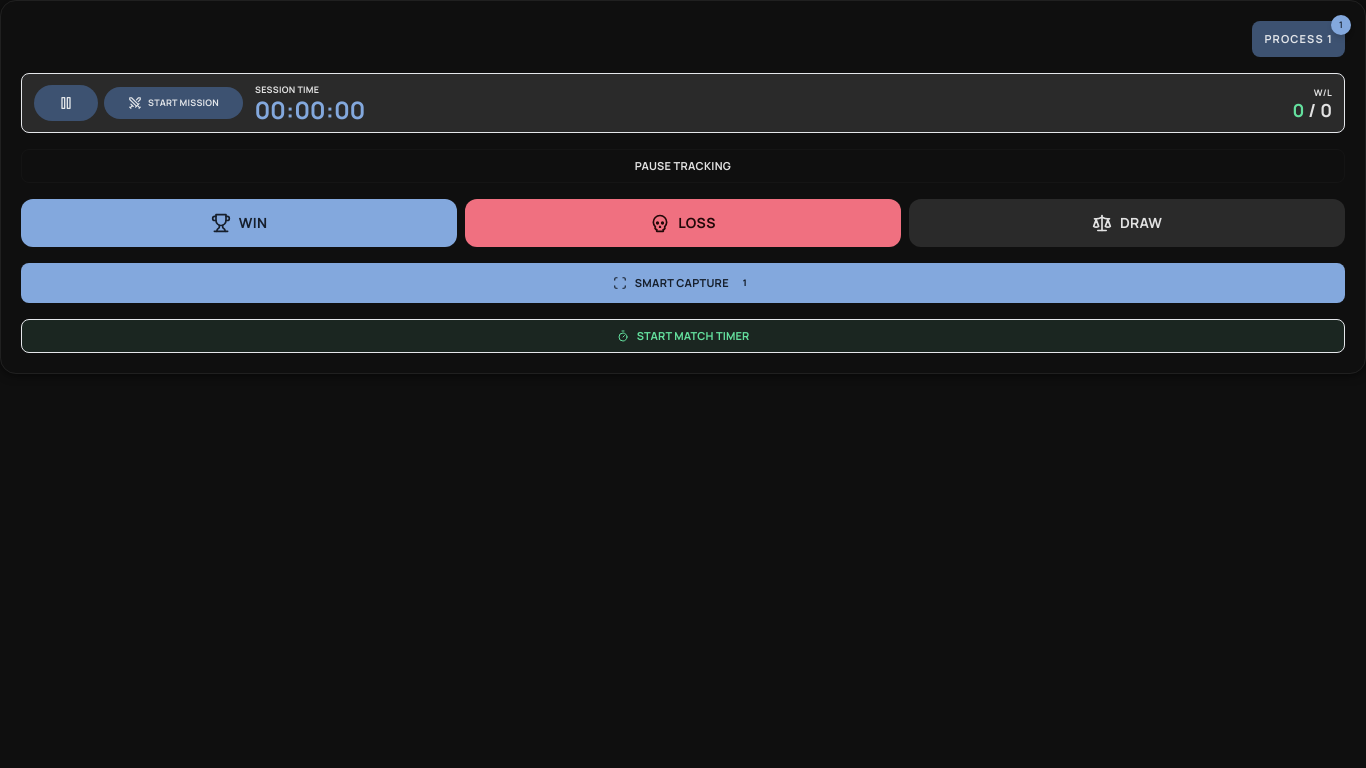
it: ActionPanel › shows blocking OCR decision prompt instead of auto-processing when queued captures exist
Click the button "Win" at point(239, 223), box [21,199,457,247]
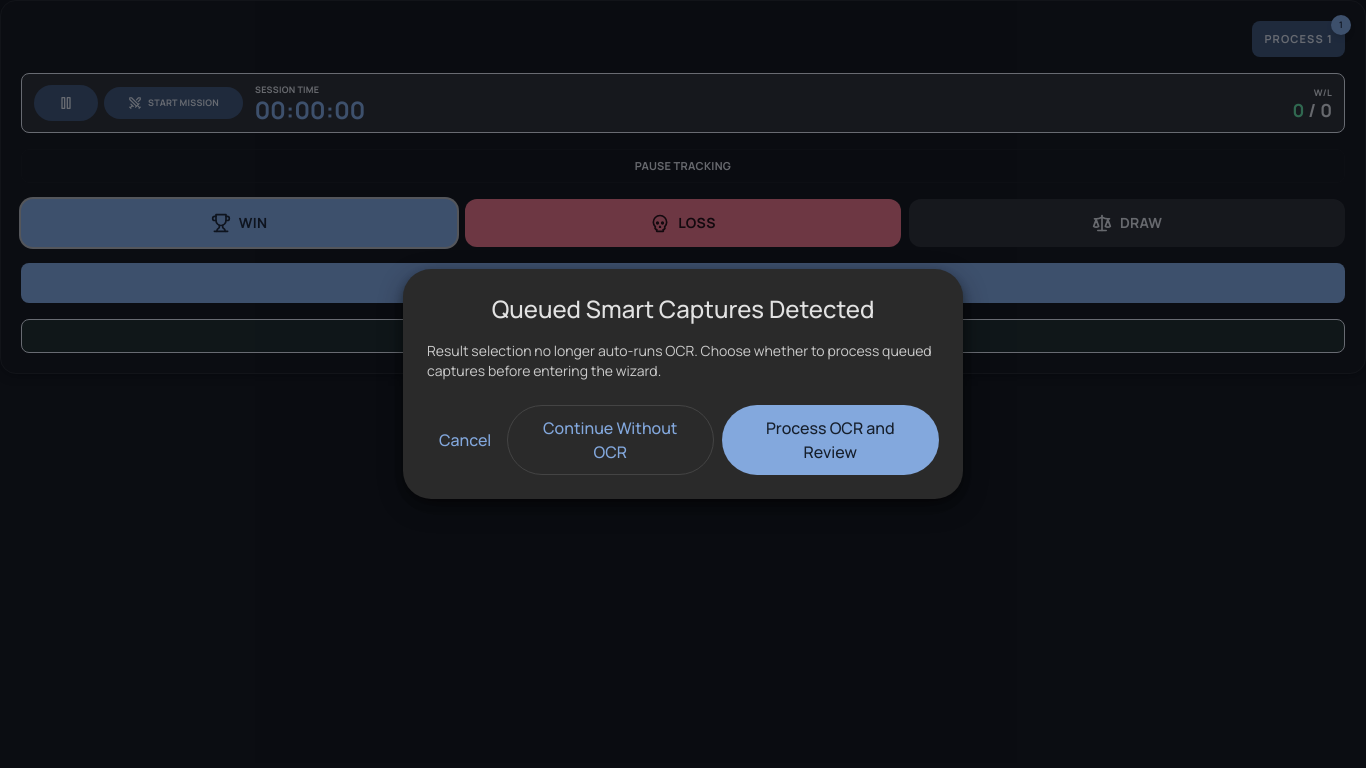
Expected: the text "Queued Smart Captures Detected" is shown, [492,292,874,325]
